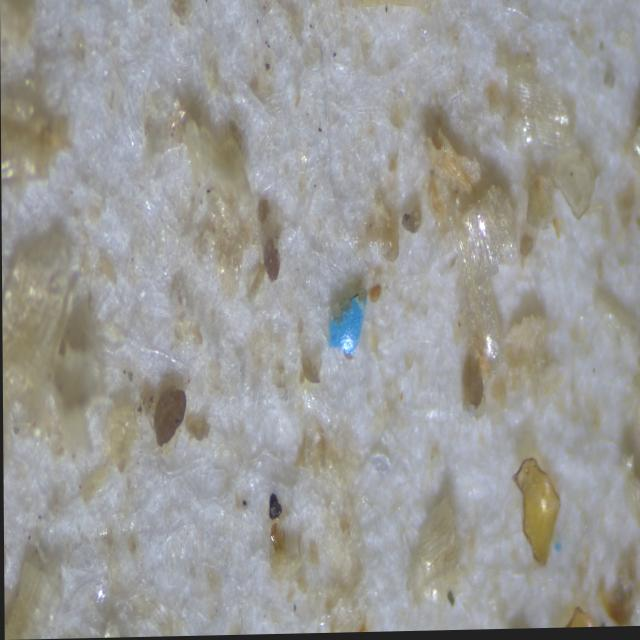microplastic: (324, 288, 370, 357)
